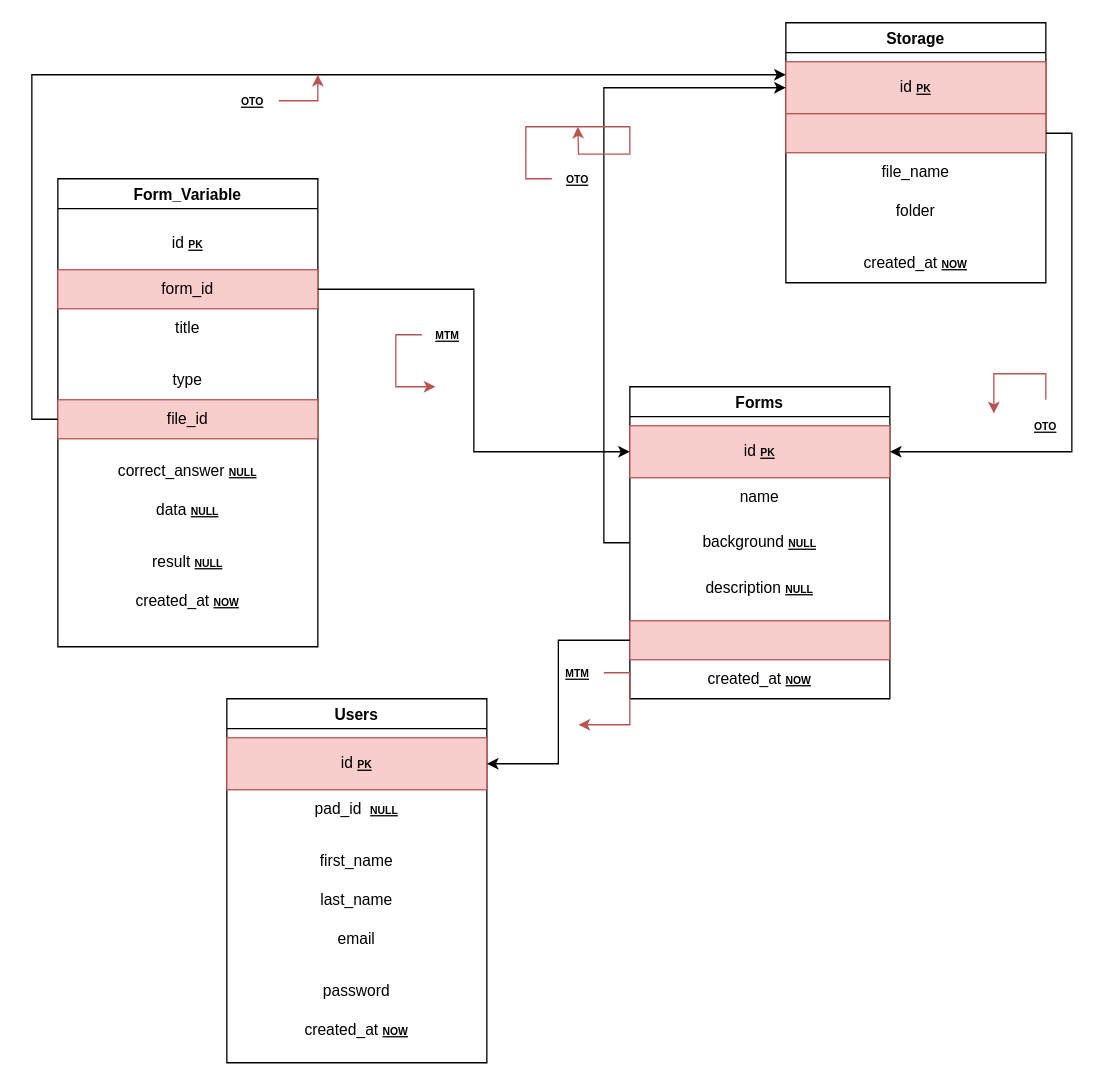
The diagram is 1105 pixels wide and 1086 high, and some of its shapes have lost their labels. Each missing label, with the centre of its shape:
"form_id NULL" goes at point (915, 132).
"owner_id" goes at point (759, 639).
